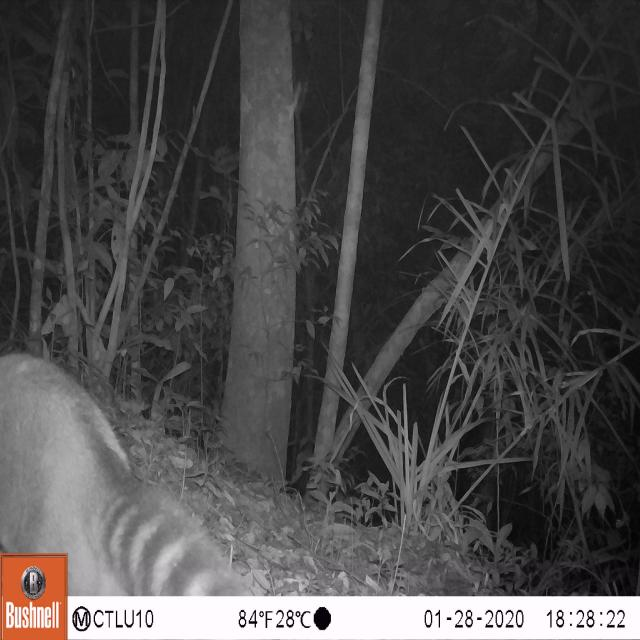South American Coati: (0, 343, 275, 597)
